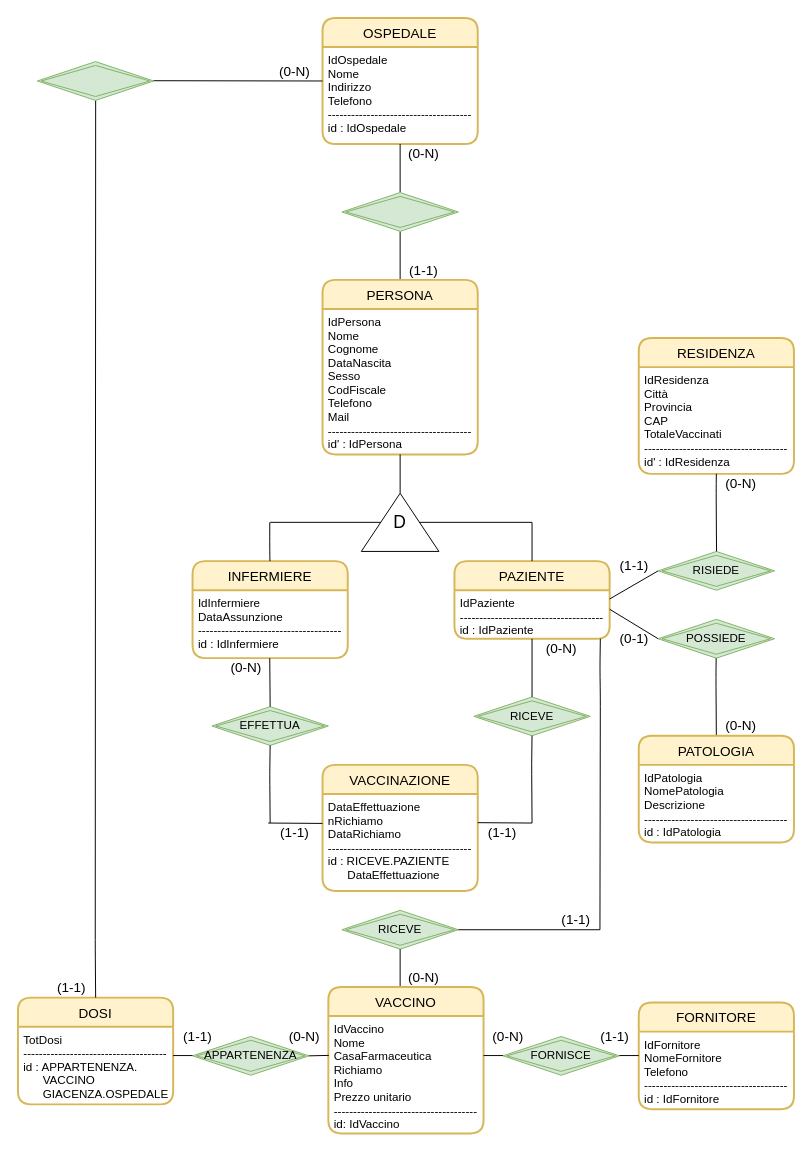
The diagram is 811 pixels wide and 1150 high, and some of its shapes have lost their labels. Each missing label, with the centre of its shape:
"COMPRENDE" belongs at [399,211].
"GIACENZA" belongs at [95,80].
